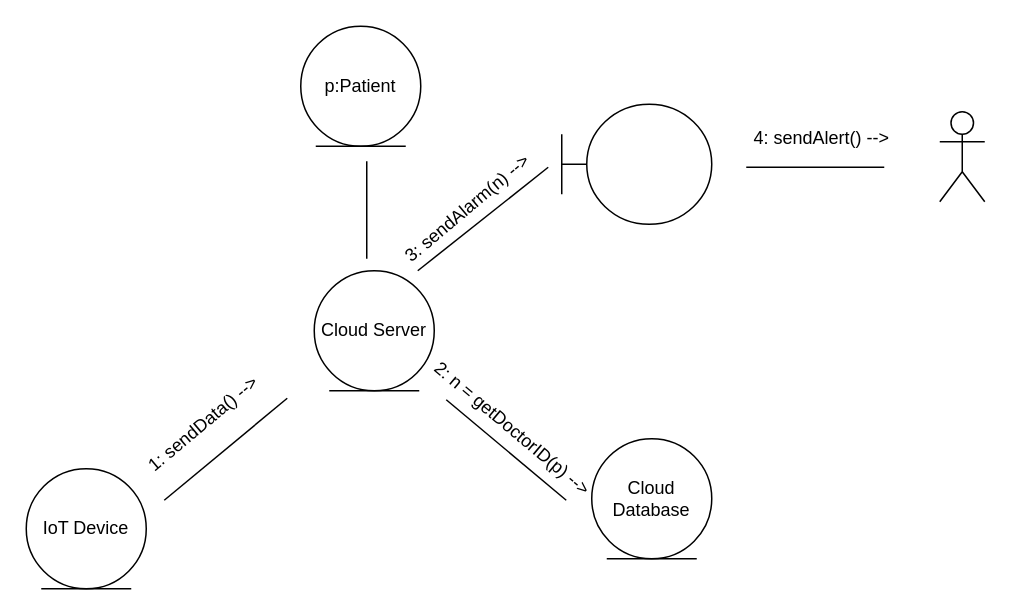
This 1014x615 diagram has some shape labels left out. The shapes that lost their labels are listed below. From the top down, each one's box as (x1, y1, x2, y2) in pixels, then its label:
(560, 103, 712, 224): SMS Interface
(938, 110, 985, 202): Doctor
